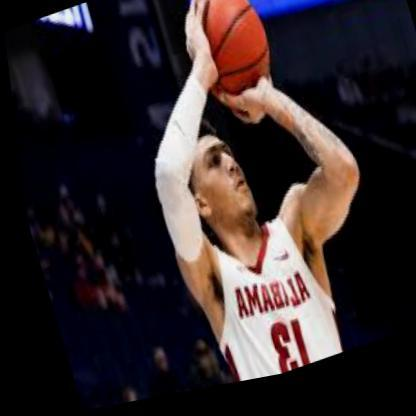basketball: (177, 0, 276, 118)
